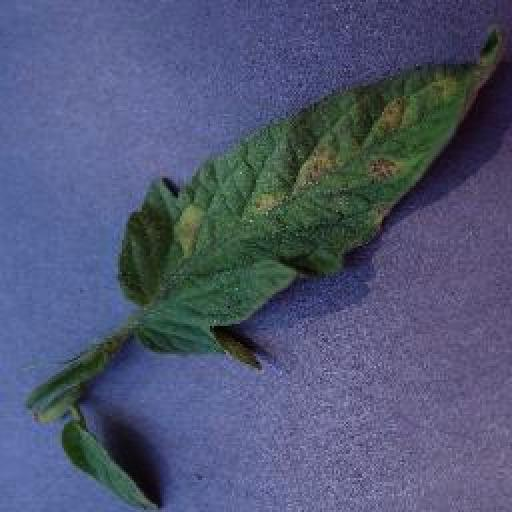disease_tomato: (120, 22, 502, 372)
